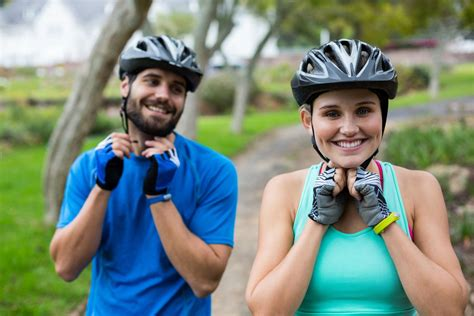com_capacete_bicicleta: (289, 37, 399, 171), (119, 33, 205, 139)
